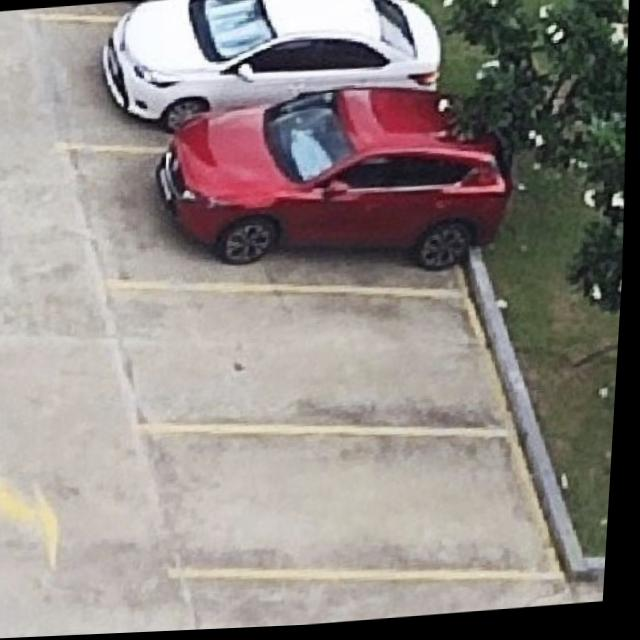car: (159, 90, 514, 272), (104, 0, 440, 130)
freeslot: (125, 413, 582, 589), (91, 271, 539, 446)
